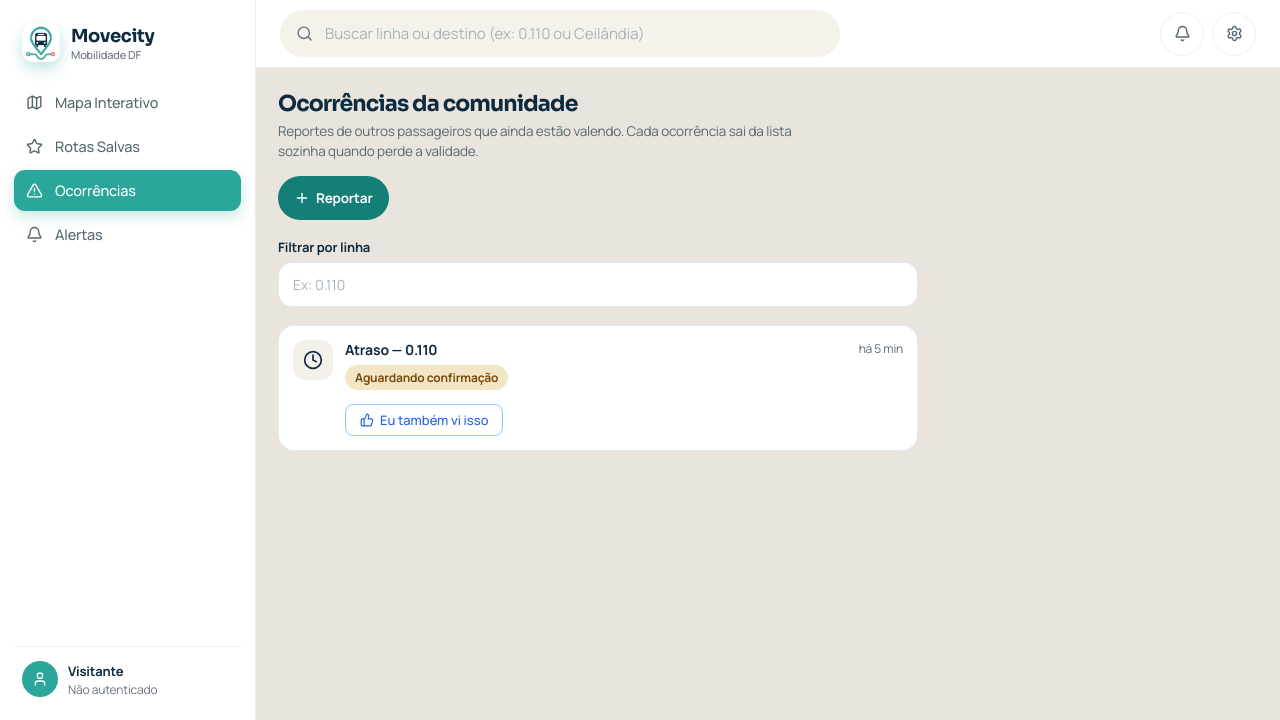
Test: OcorrenciasPage — confirmar ocorrência (US #26) › exibe indicador de carregamento durante a confirmação
The width and height of the screenshot is (1280, 720).
Click the button "Eu também vi isso" at (424, 420), box top-left (345, 404), bottom-right (504, 436)
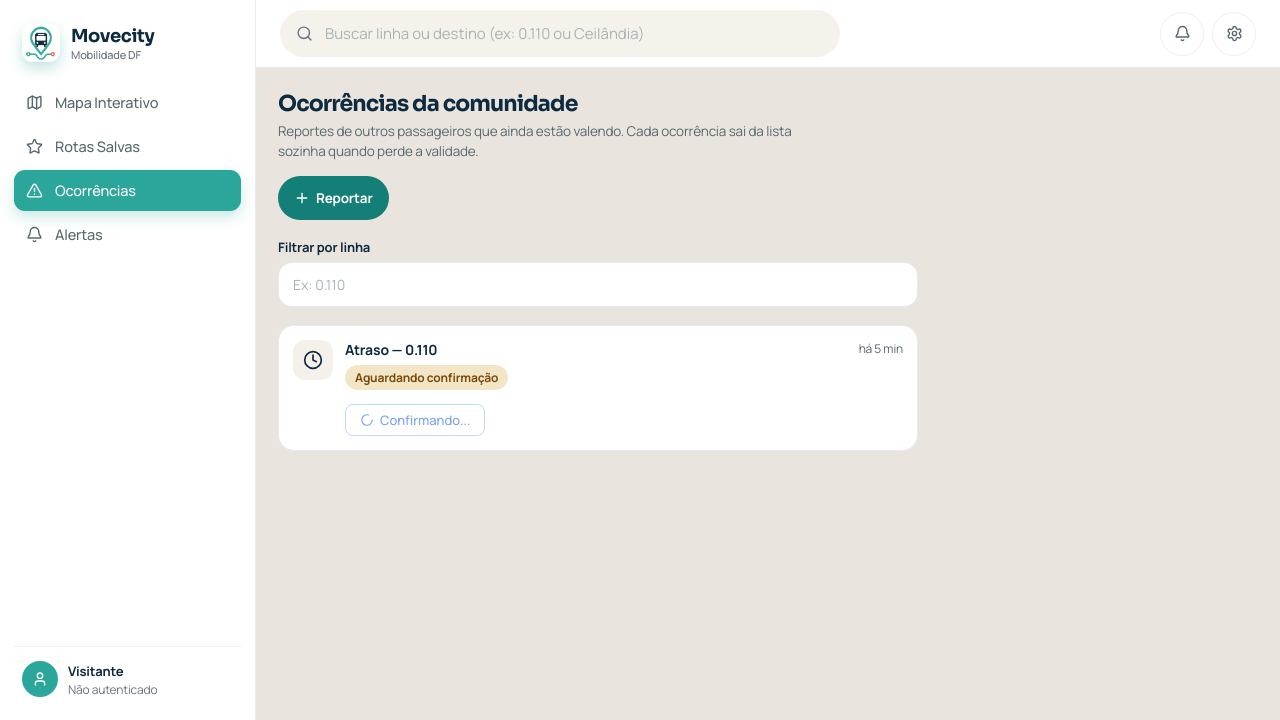
Result: the button with aria-label "Confirmar ocorr" is disabled at top-left (345, 404), bottom-right (485, 436)
